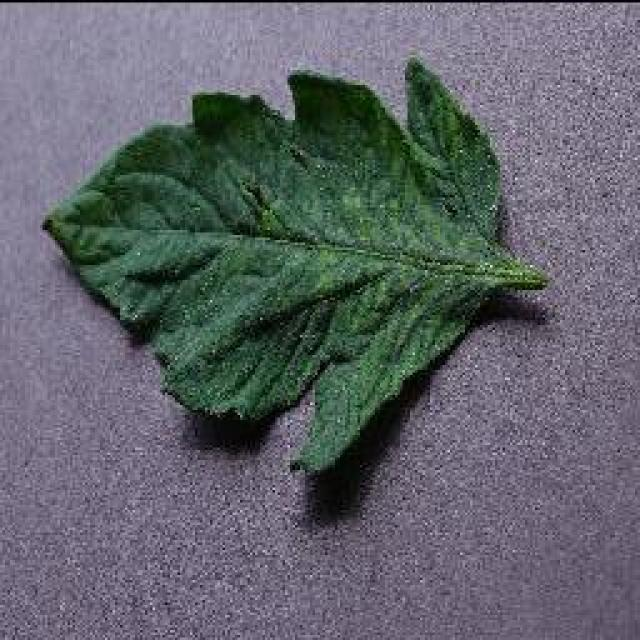Tomato___Tomato_mosaic_virus: (42, 60, 545, 472)
